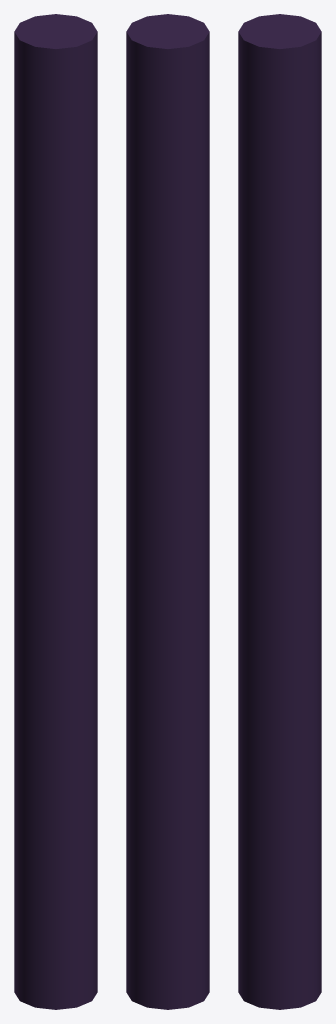
Rendered from Pillar_Nomalized_01.fbx.
3 views of the same model, side by side, from view 1: azimuth 90°, elevation 25°; view 2: azimuth 150°, elevation 25°; view 3: azimuth 270°, elevation 25° (orthographic).
Parts seen in each view (by area): view 1: Pillar_Nomalized_01; view 2: Pillar_Nomalized_01; view 3: Pillar_Nomalized_01.
Part boxes in pixels (bbox=[...]): Pillar_Nomalized_01: bbox=[14, 14, 97, 1009]; Pillar_Nomalized_01: bbox=[126, 14, 209, 1009]; Pillar_Nomalized_01: bbox=[238, 14, 321, 1009].
Size of the model in its own units: 23.57 by 300 by 23.57.
